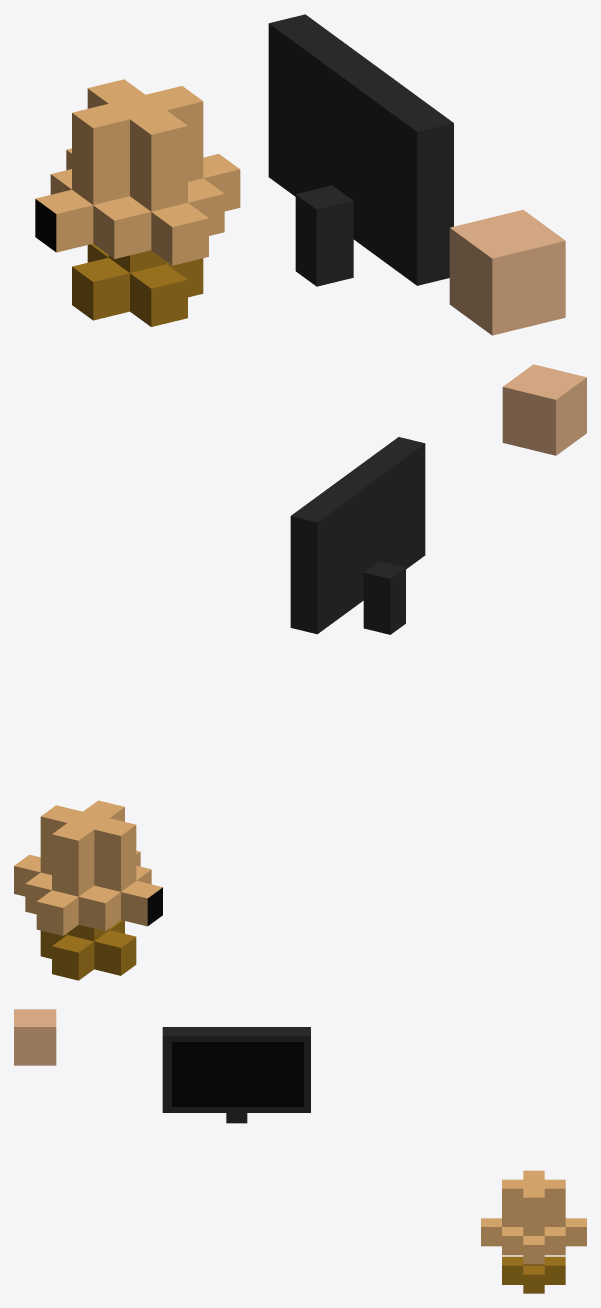
The model's file is item.obj.
The picture shows the model from 3 angles, top to bottom: view 1: azimuth 30°, elevation 25°; view 2: azimuth 150°, elevation 25°; view 3: azimuth 270°, elevation 25°; orthographic projection. The views are drawn at different scales.
Parts seen in each view (by area): view 1: Untitled.001; view 2: Untitled.001; view 3: Untitled.001.
Boxes of the visible parts, bbox=[...] form: Untitled.001: bbox=[35, 14, 565, 335]; Untitled.001: bbox=[14, 364, 586, 980]; Untitled.001: bbox=[14, 1009, 586, 1293].
Bounding box in the file's own units: 0.7 × 1.2 × 2.7.
